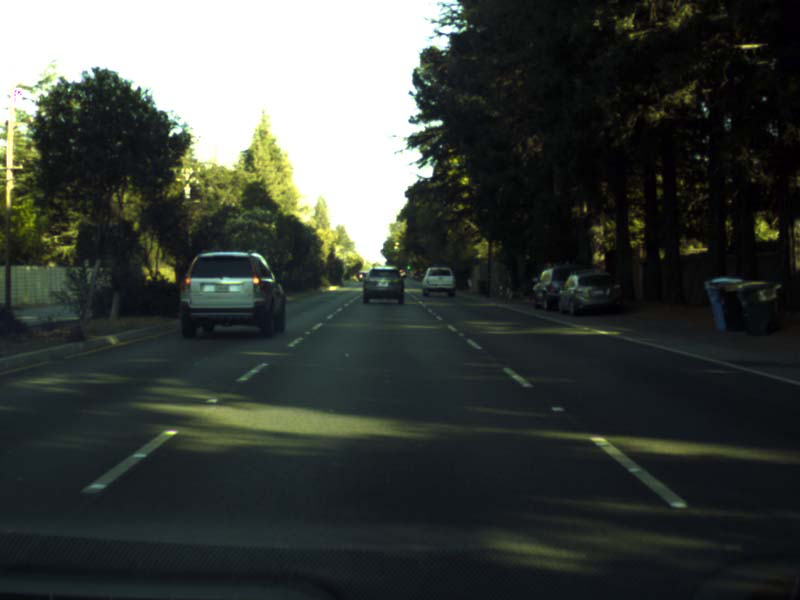Green: (405, 262, 410, 271)
